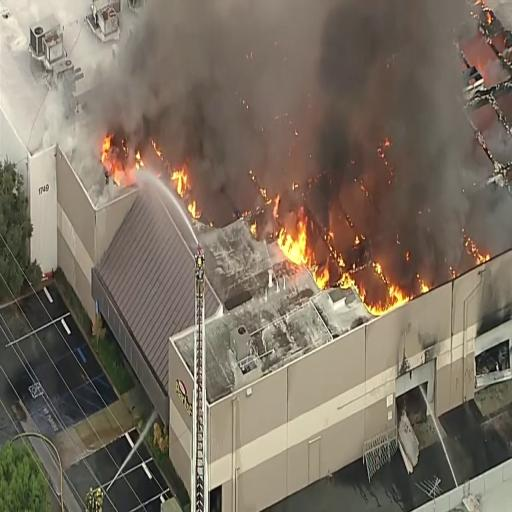fire: (280, 206, 309, 264)
smoke: (322, 0, 432, 192)
